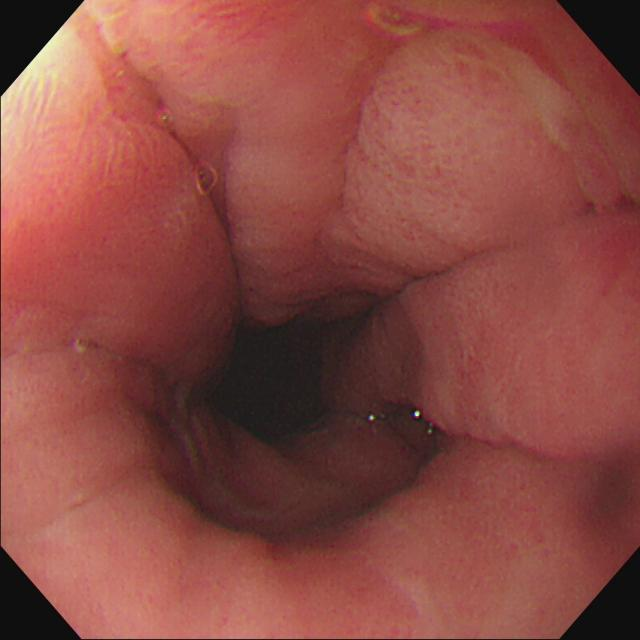A: (349, 65, 498, 246)
E: (212, 324, 326, 443)
